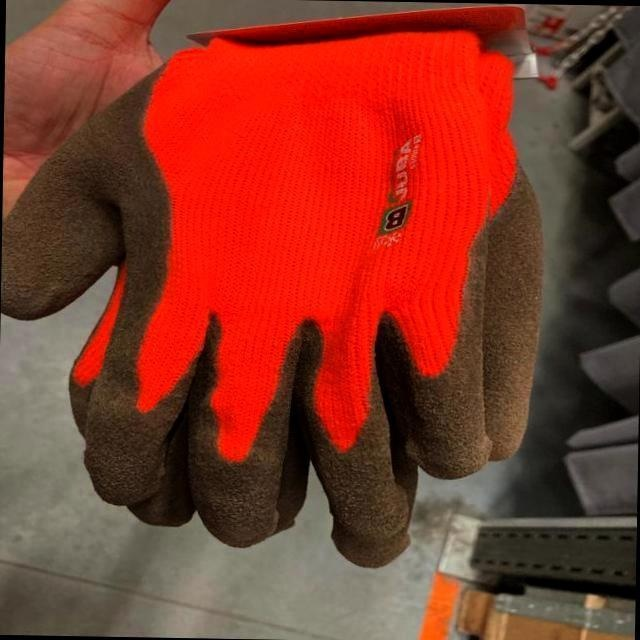Guantes: (1, 13, 545, 568)
